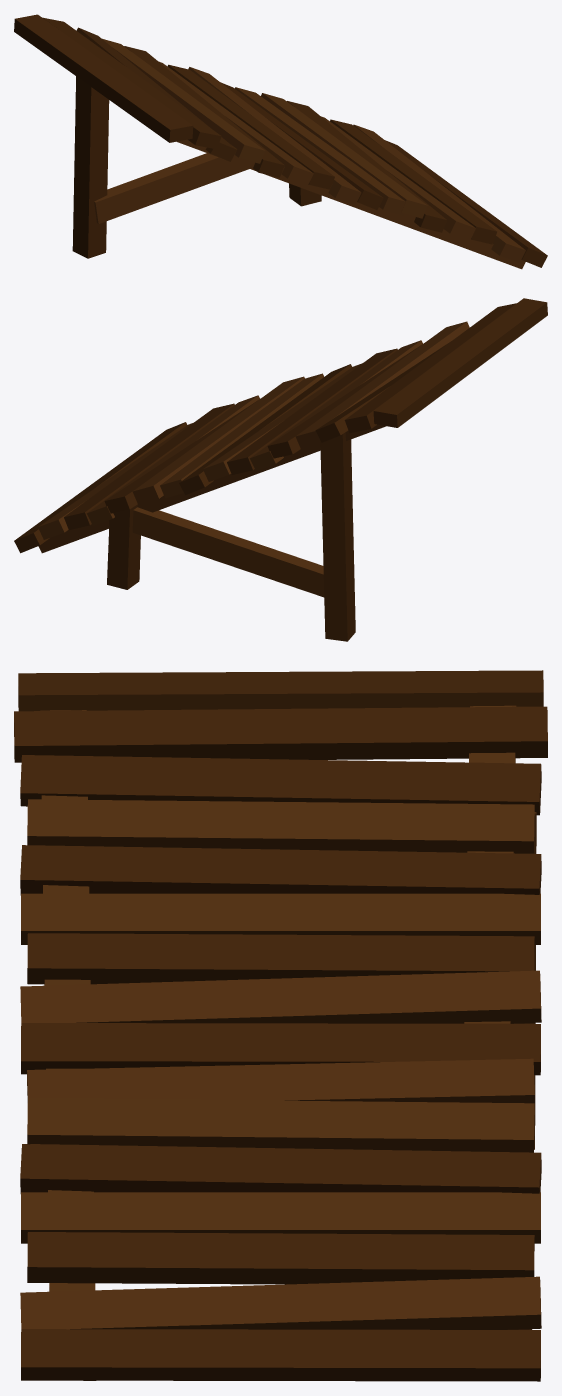
The model's file is obj_ScaffoldingRamp_1.fbx.
3 renders of one model, top to bottom at view 1: azimuth 30°, elevation 25°; view 2: azimuth 150°, elevation 25°; view 3: azimuth 270°, elevation 25°, orthographic. The views are drawn at different scales.
Parts seen in each view (by area): view 1: geo_ScaffoldingRamp_1; view 2: geo_ScaffoldingRamp_1; view 3: geo_ScaffoldingRamp_1.
Part boxes in pixels (x1,y1,x2,y2): geo_ScaffoldingRamp_1: (14, 14, 547, 269); geo_ScaffoldingRamp_1: (14, 298, 547, 641); geo_ScaffoldingRamp_1: (14, 670, 547, 1381).
Bounding box in the file's own units: 90.29 × 54.76 × 63.39.
